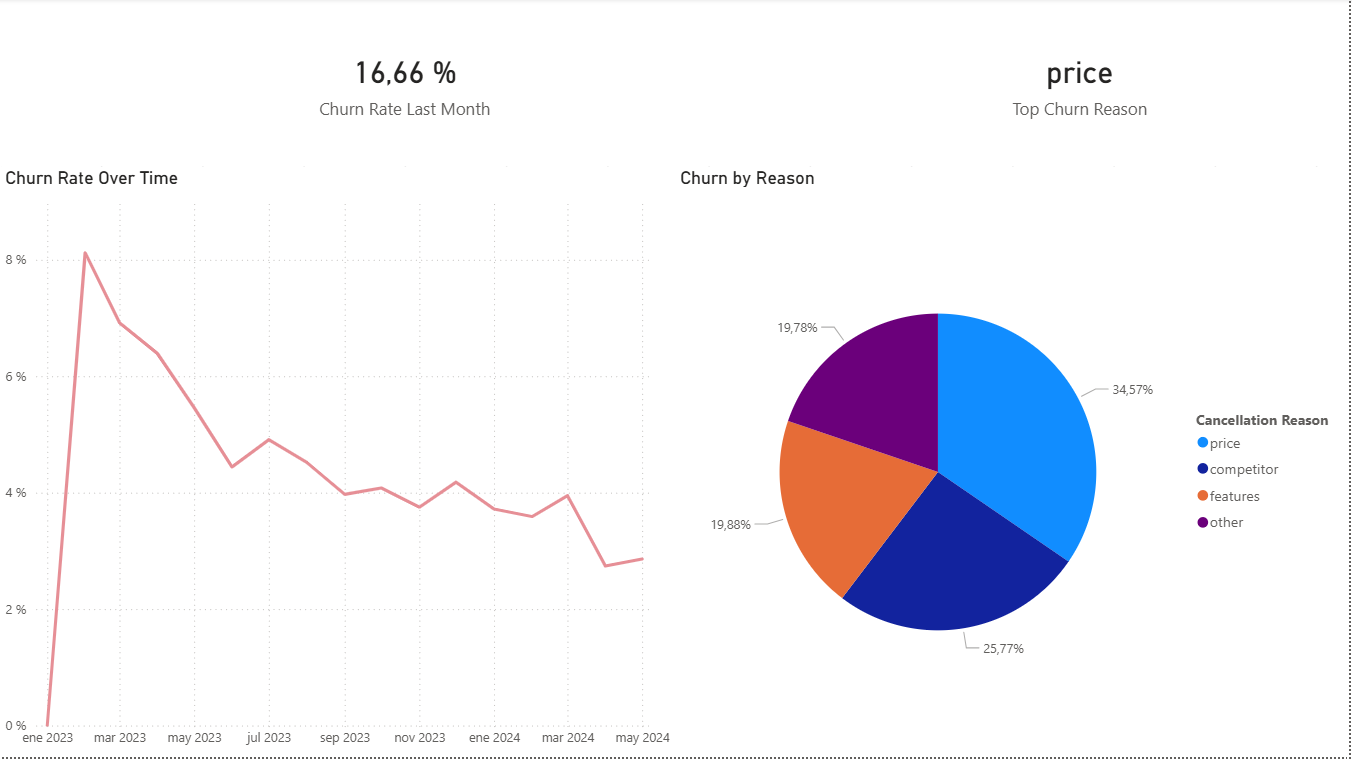

The page's visual inventory and layout, read from the dashboard file:
{"tool":"powerbi","page":{"name":"Churn Analysis","canvas":[1280,720],"ordinal":3},"visuals":[{"type":"card","fields":{"Values":["Sum(analytics vw_churn_rate.churn_rate)"]},"box":[0,0,768,160],"z":0},{"type":"lineChart","title":"Churn Rate Over Time","fields":{"Y":["Sum(analytics vw_churn_rate.churn_rate)"],"Category":["analytics vw_churn_rate.month.Variación.Date Hierarchy.Year","analytics vw_churn_rate.month.Variación.Date Hierarchy.Quarter","analytics vw_churn_rate.month.Variación.Date Hierarchy.Month","analytics vw_churn_rate.month.Variación.Date Hierarchy.Day"]},"box":[0,160,640,560],"z":1000},{"type":"pieChart","title":"Churn by Reason","fields":{"Category":["analytics vw_churn_reasons.cancellation_reason"],"Y":["Sum(analytics vw_churn_reasons.share)"]},"box":[640,160,640,560],"z":2000},{"type":"card","fields":{"Values":["Min(analytics vw_churn_reasons.cancellation_reason)"]},"box":[768,0,512,160],"z":3000}]}

Visuals, with their boxes in screenshot pixels (x1, y1, x2, y2), scaled from the page's 1280x720 canvas onto the 1352x760 screenshot:
card - Sum(analytics vw_churn_rate.churn_rate): locate(0, 0, 811, 169)
"Churn Rate Over Time" lineChart: locate(0, 169, 676, 759)
"Churn by Reason" pieChart: locate(676, 169, 1351, 759)
card - Min(analytics vw_churn_reasons.cancellation_reason): locate(811, 0, 1351, 169)
